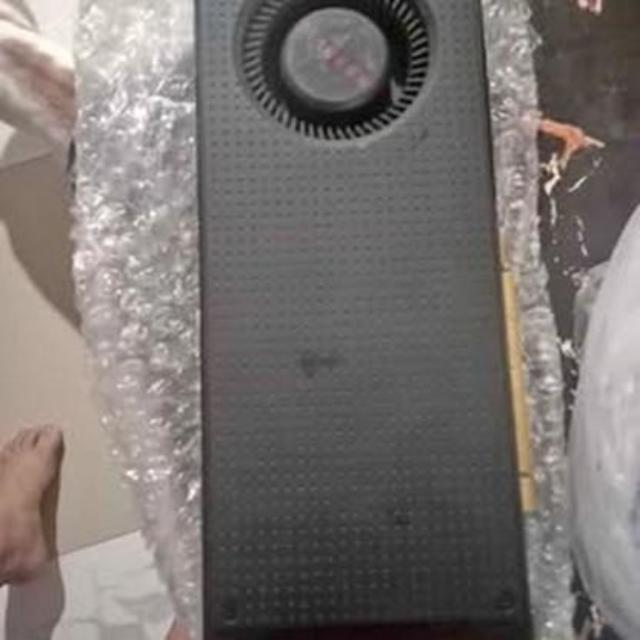GPU: (188, 0, 546, 640)
